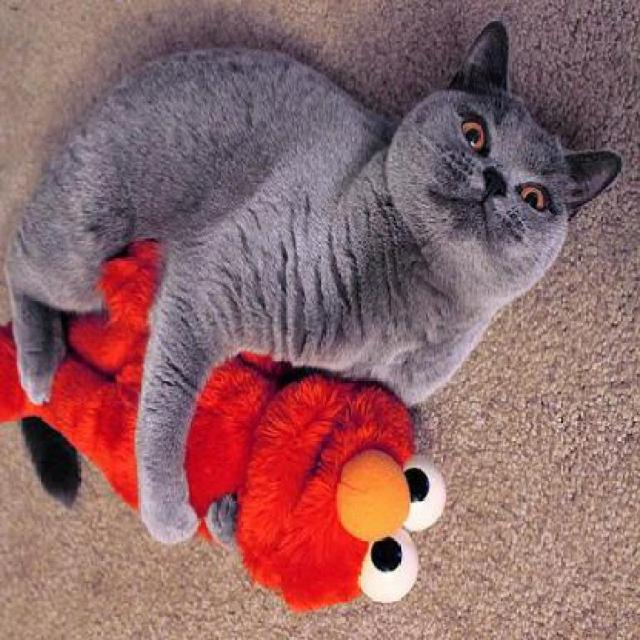cat: (6, 18, 620, 547)
